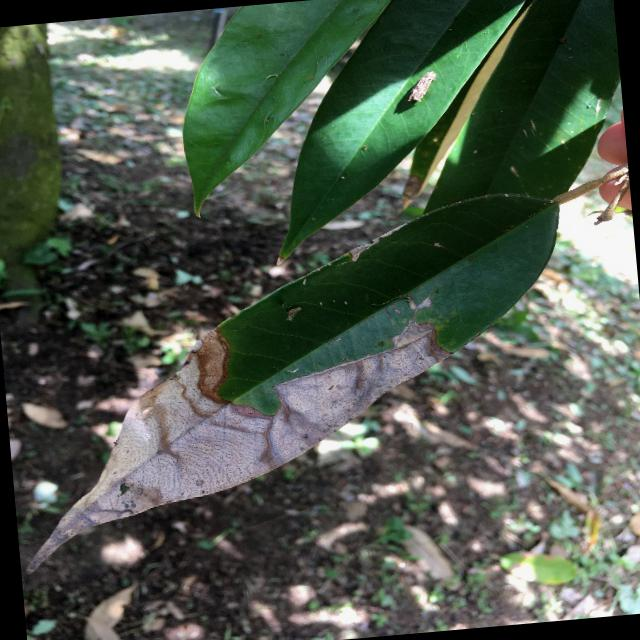Leaf Blight: (0, 175, 591, 587)
